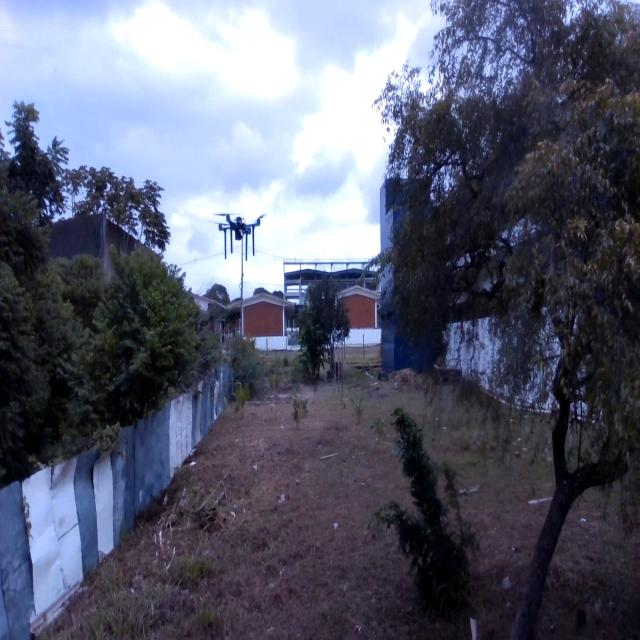-uav-: (206, 205, 268, 265)
